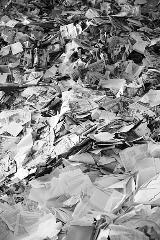paper: (118, 142, 150, 172), (10, 42, 24, 55)
